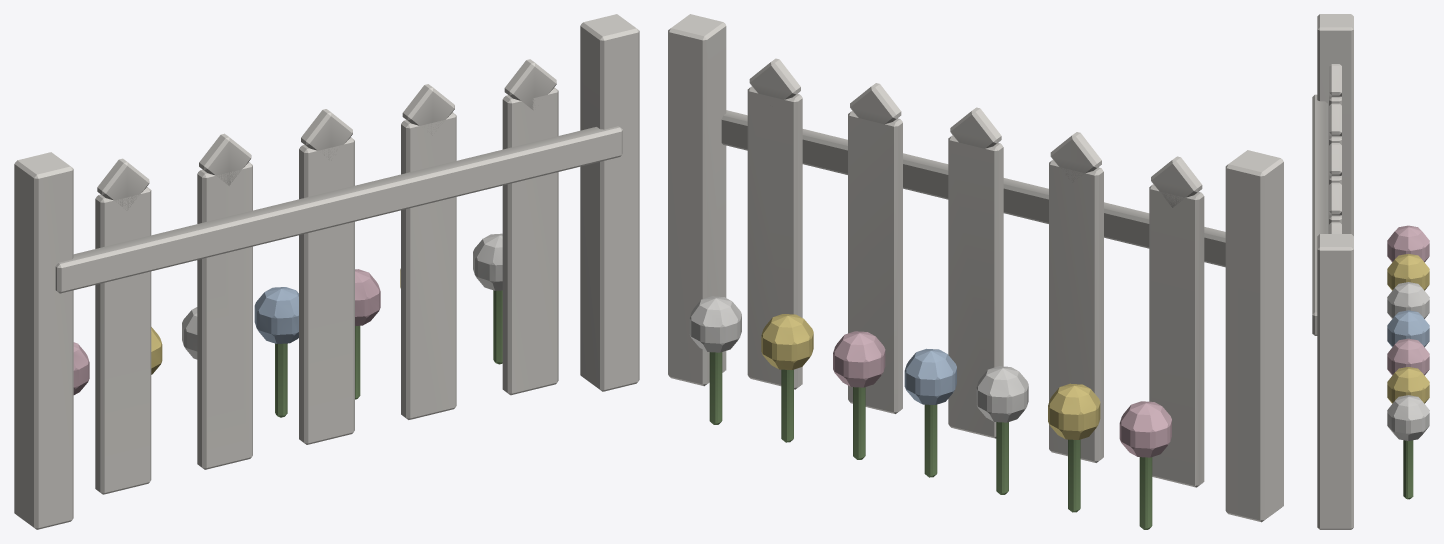
File: fence_flower.glb
3 views of the same model, side by side, from view 1: azimuth 30°, elevation 25°; view 2: azimuth 150°, elevation 25°; view 3: azimuth 270°, elevation 25° (orthographic). The views are drawn at different scales.
Size of the model in its own units: 1.07 by 0.6 by 0.2259.
